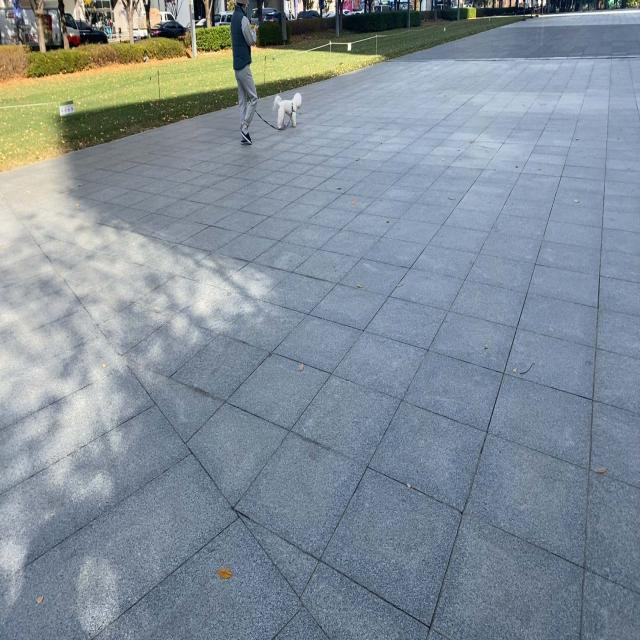Leashed_Dog: (243, 66, 304, 132)
